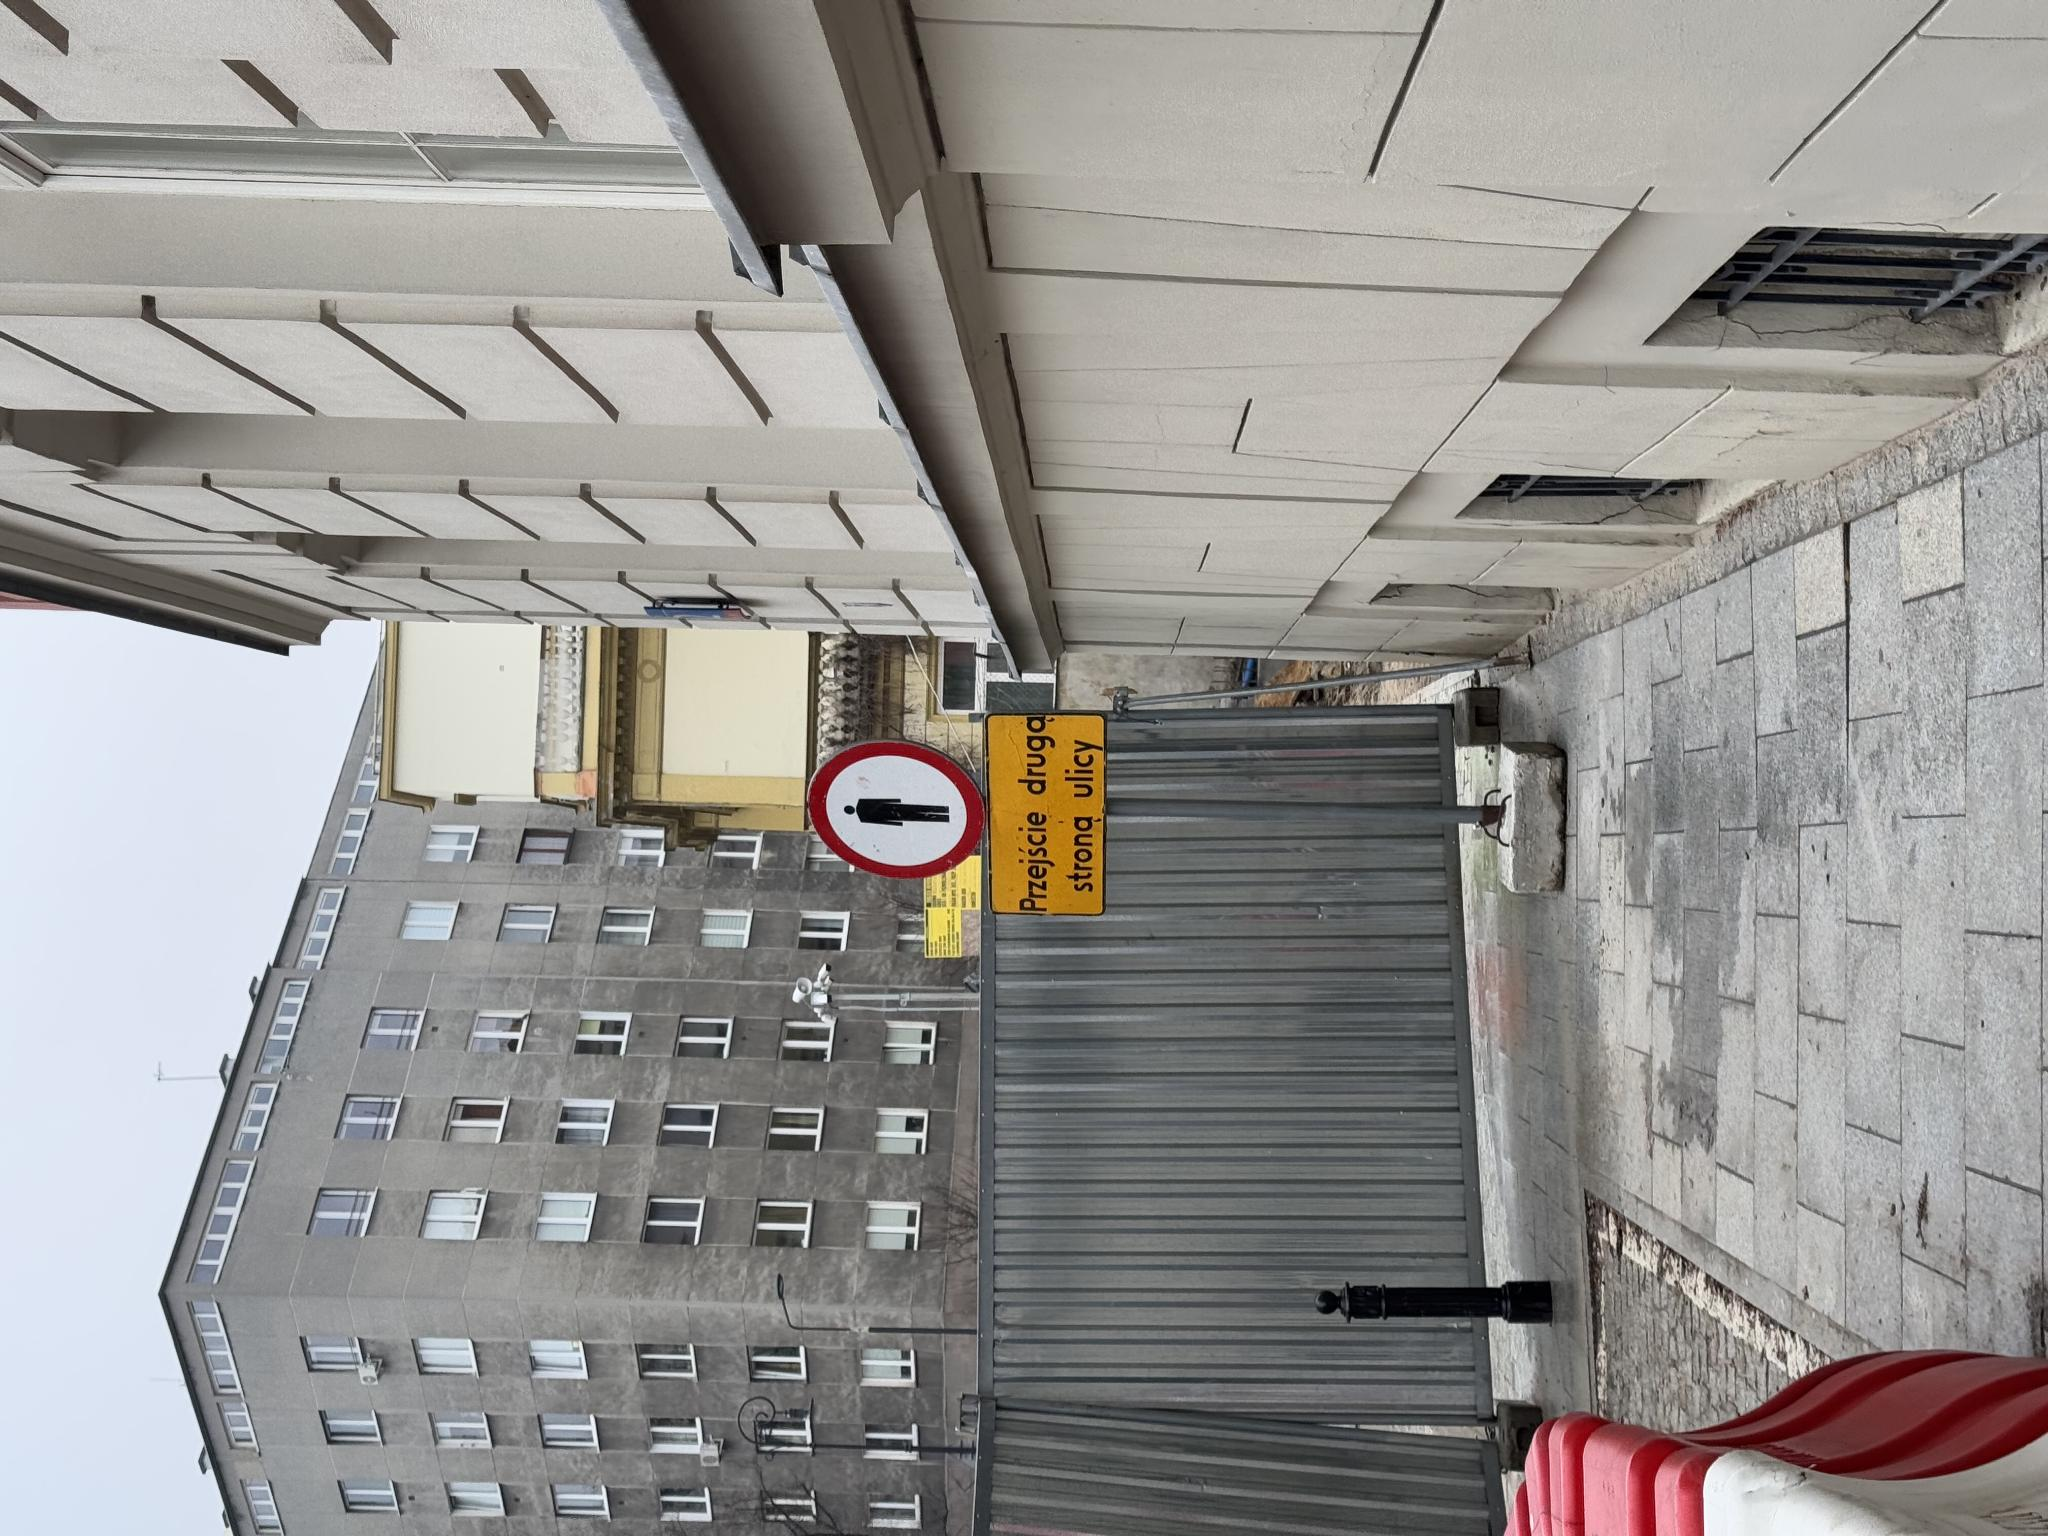prohibitory: (655, 803, 800, 986)
